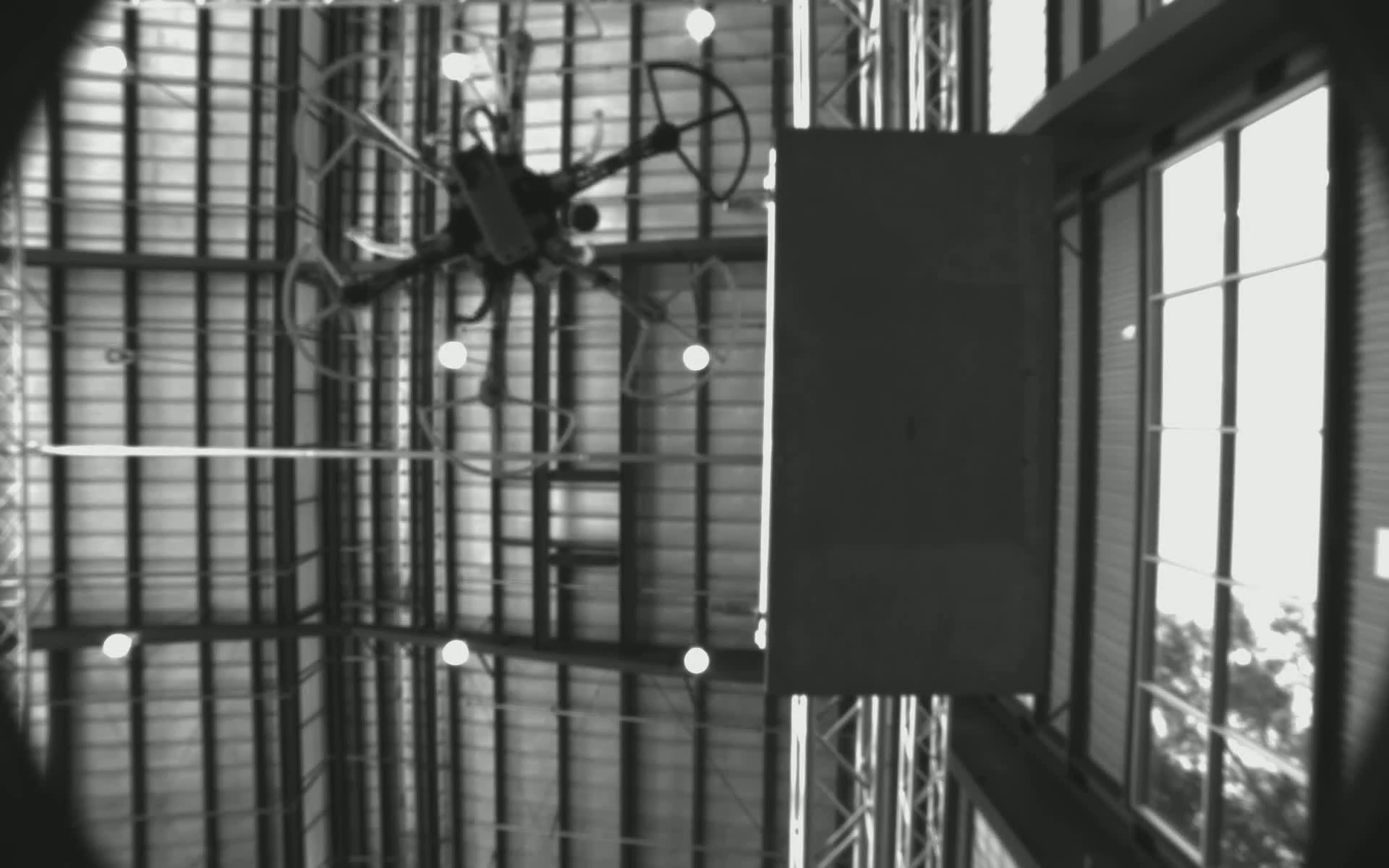drone: (269, 0, 768, 493)
